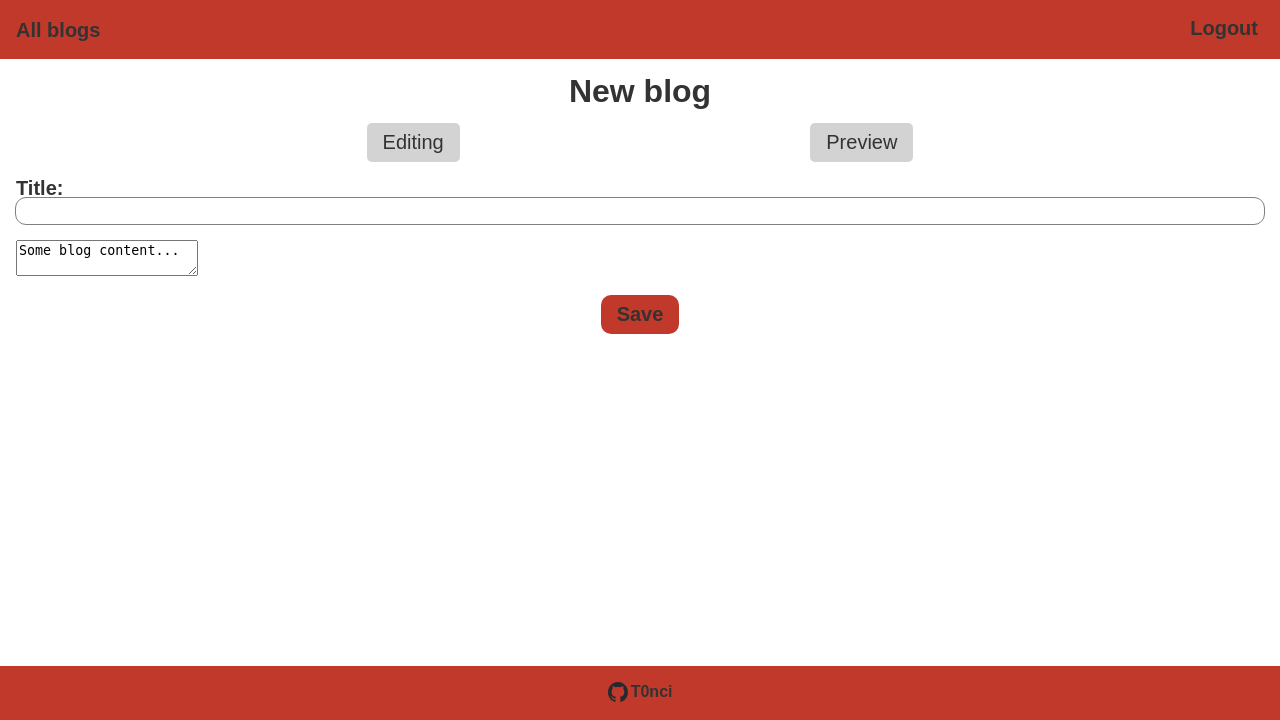
Test: BlogForm Component › shows errors if server responds with any for new post
Type "Blog Title" into the field labelled "Title:".
click(640, 211); type("Blog Title")  # box top-left (16, 198), bottom-right (1264, 224)
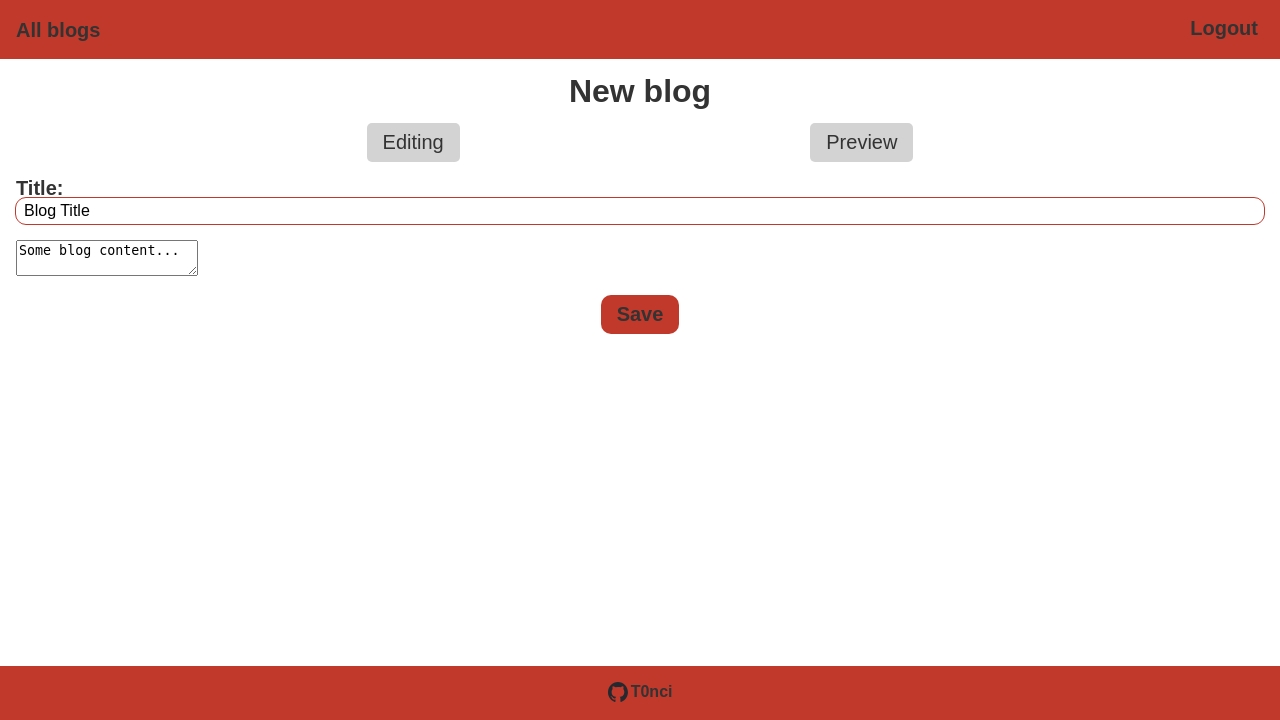
Click the button "Save".
click(640, 314)  # box top-left (601, 295), bottom-right (679, 334)
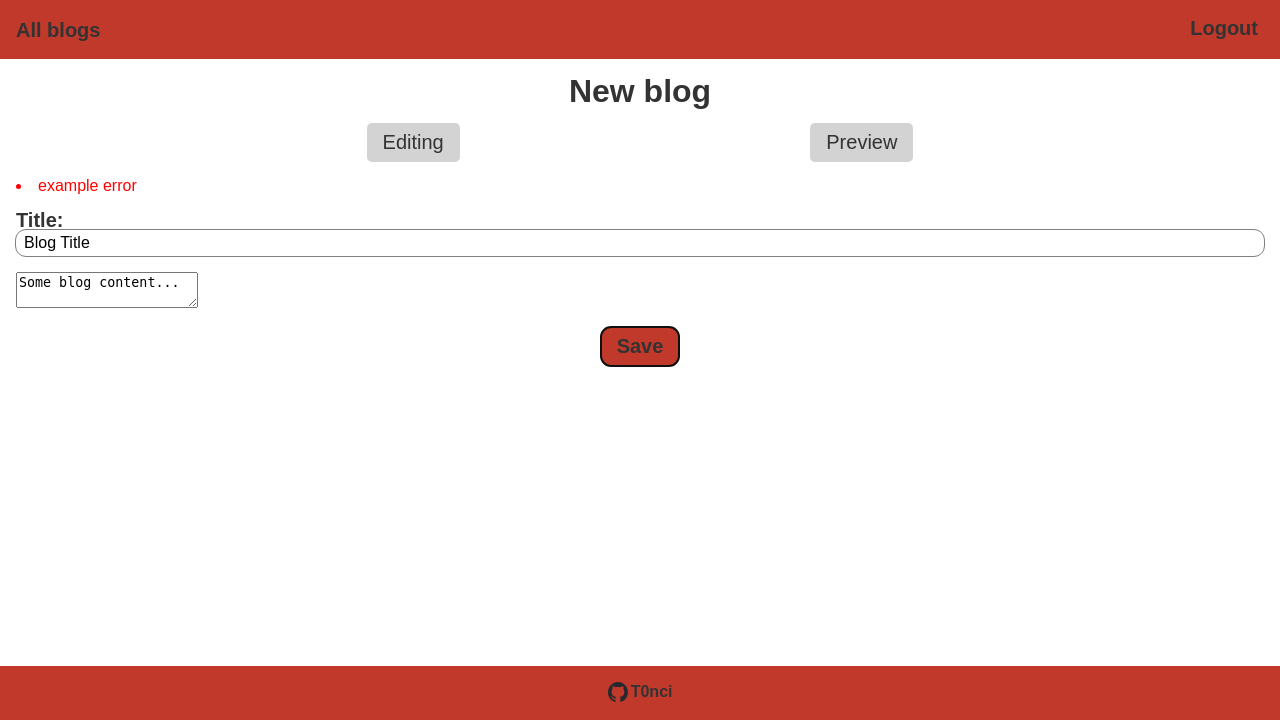
expect the list with test id "errors" is shown: met, box top-left (38, 177), bottom-right (137, 194)
